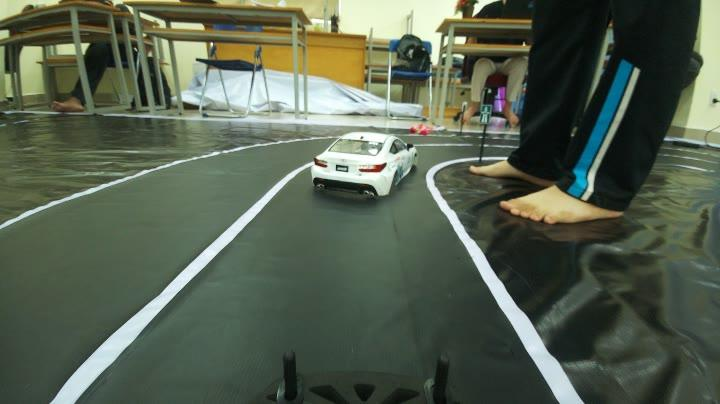car: (318, 124, 416, 214)
